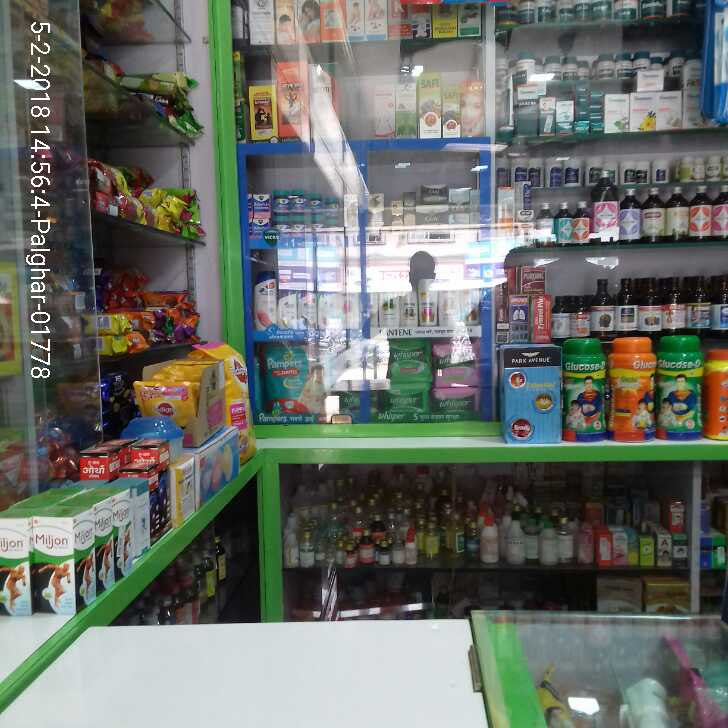vicks: (249, 187, 344, 227)
